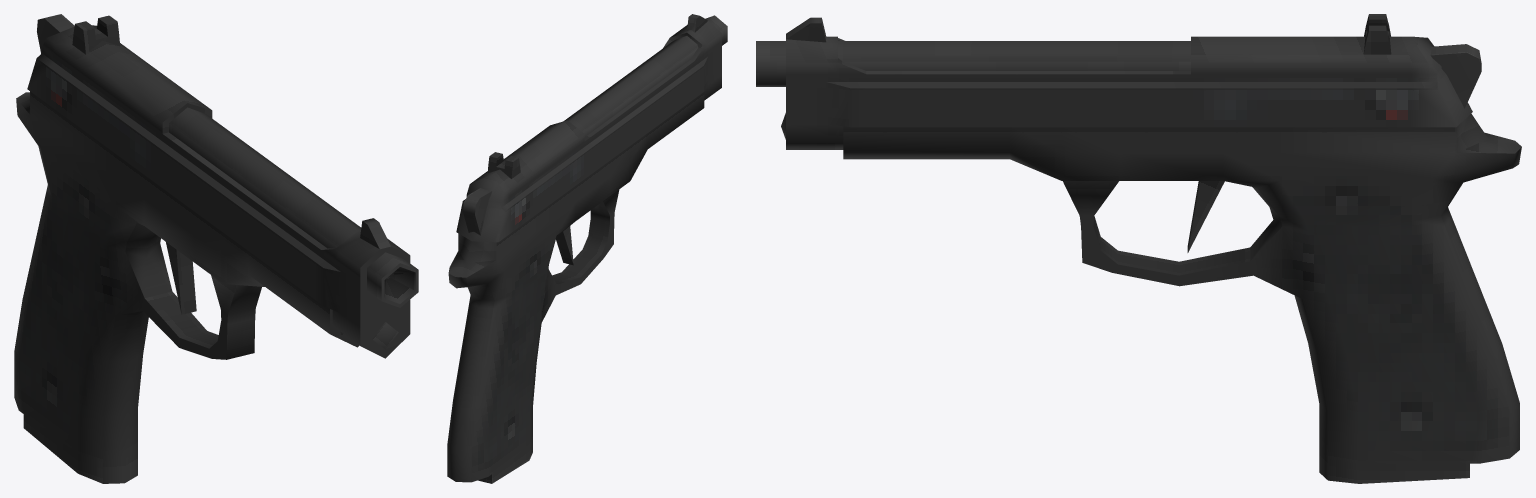
3 renders of one model, left to right at view 1: azimuth 30°, elevation 25°; view 2: azimuth 150°, elevation 25°; view 3: azimuth 270°, elevation 25°, orthographic. The views are drawn at different scales.
Visible parts, largest first — view 1: M9; view 2: M9; view 3: M9.
Part boxes in pixels (box(x1,y1,x2,y2)): M9: box(14, 14, 418, 483); M9: box(447, 14, 727, 483); M9: box(756, 14, 1521, 483).
Size of the model in its own units: 2.91 by 20.23 by 31.06.
